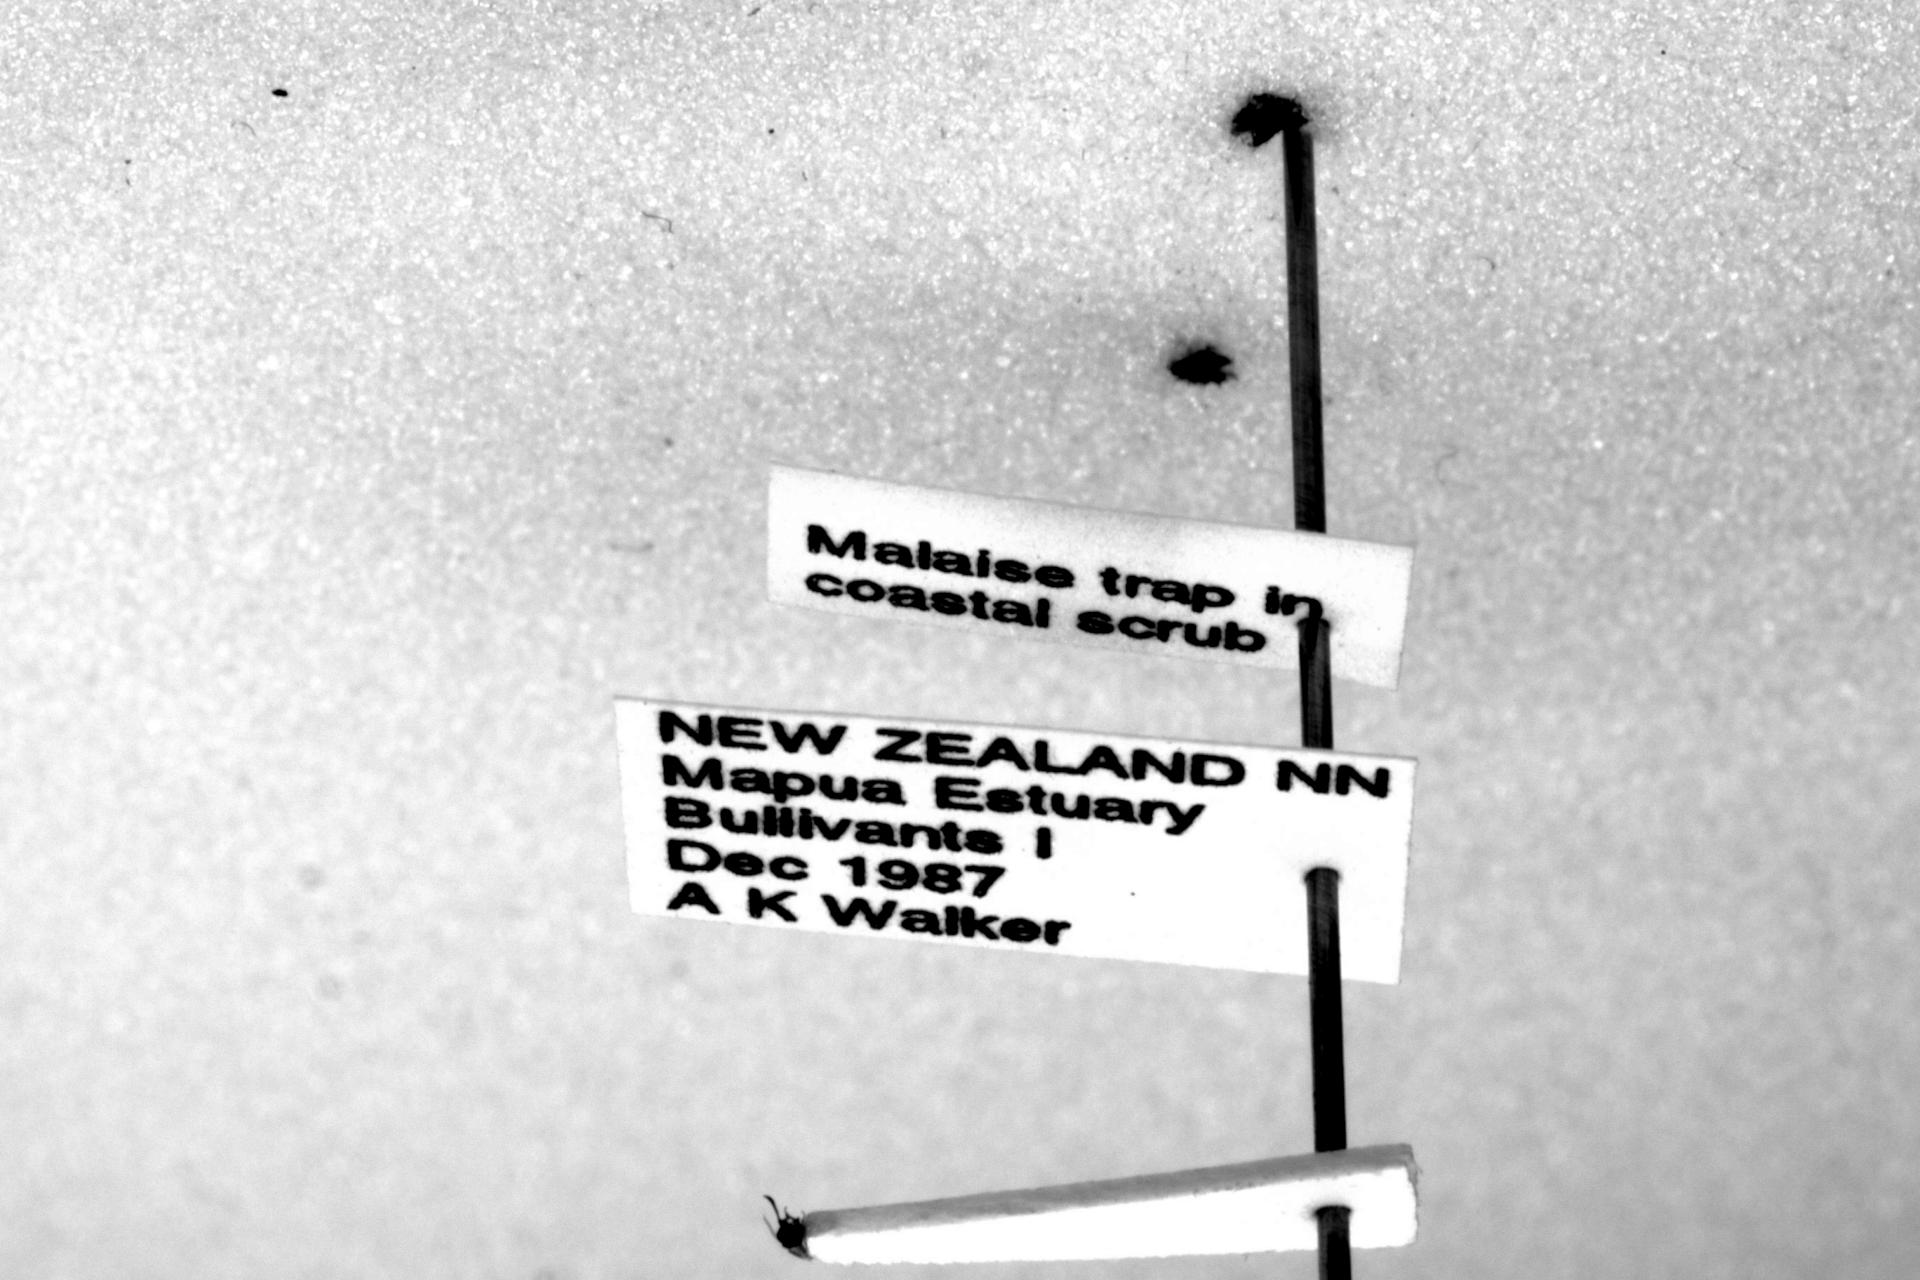typed_label: (614, 697, 1414, 983), (769, 466, 1414, 686)
